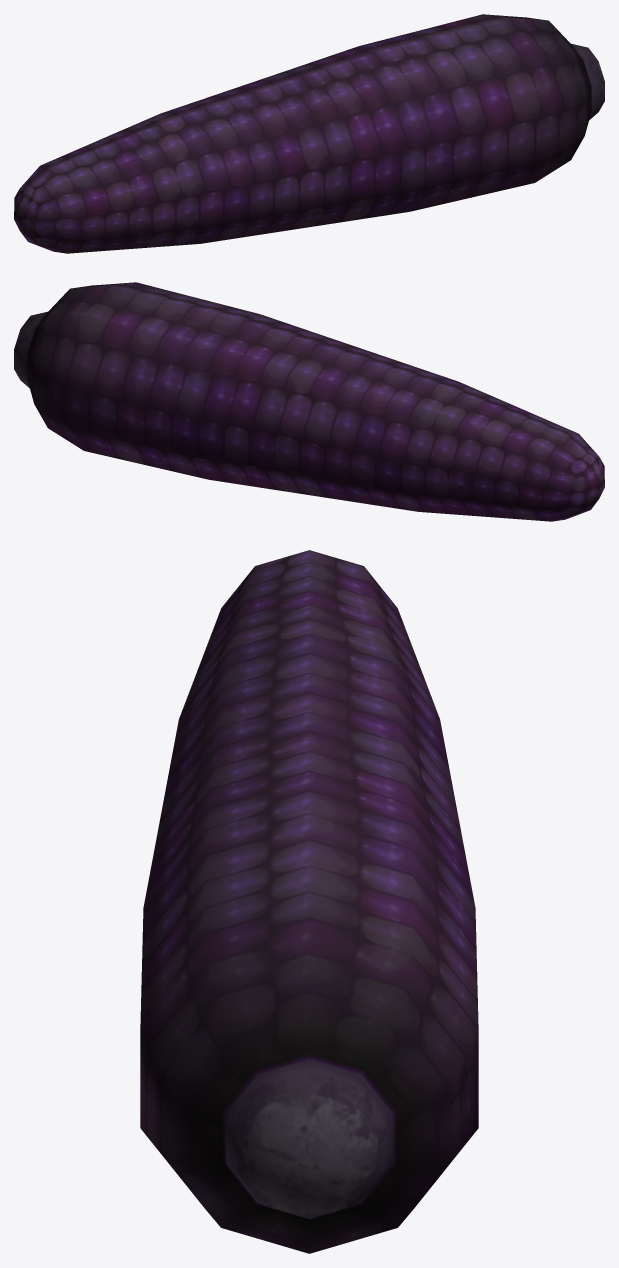
File: Corn_Purple.fbx
The picture shows the model from 3 angles, top to bottom: view 1: azimuth 30°, elevation 25°; view 2: azimuth 150°, elevation 25°; view 3: azimuth 270°, elevation 25°; orthographic projection. The views are drawn at different scales.
Parts seen in each view (by area): view 1: Corn_Purple; view 2: Corn_Purple; view 3: Corn_Purple.
Boxes of the visible parts, x1=… form: Corn_Purple: x1=14, y1=14, x2=604, y2=253; Corn_Purple: x1=14, y1=282, x2=604, y2=521; Corn_Purple: x1=140, y1=550, x2=478, y2=1253.
Bounding box in the file's own units: 94.94 × 25.17 × 23.94.
